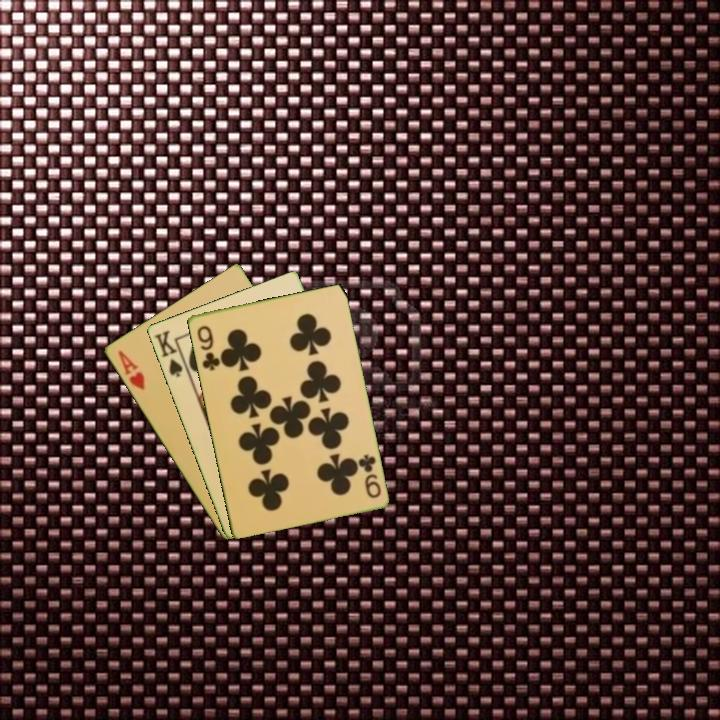9c: (354, 450, 384, 501), (193, 322, 222, 373)
Ah: (114, 346, 147, 393)
Ks: (150, 326, 191, 380)
